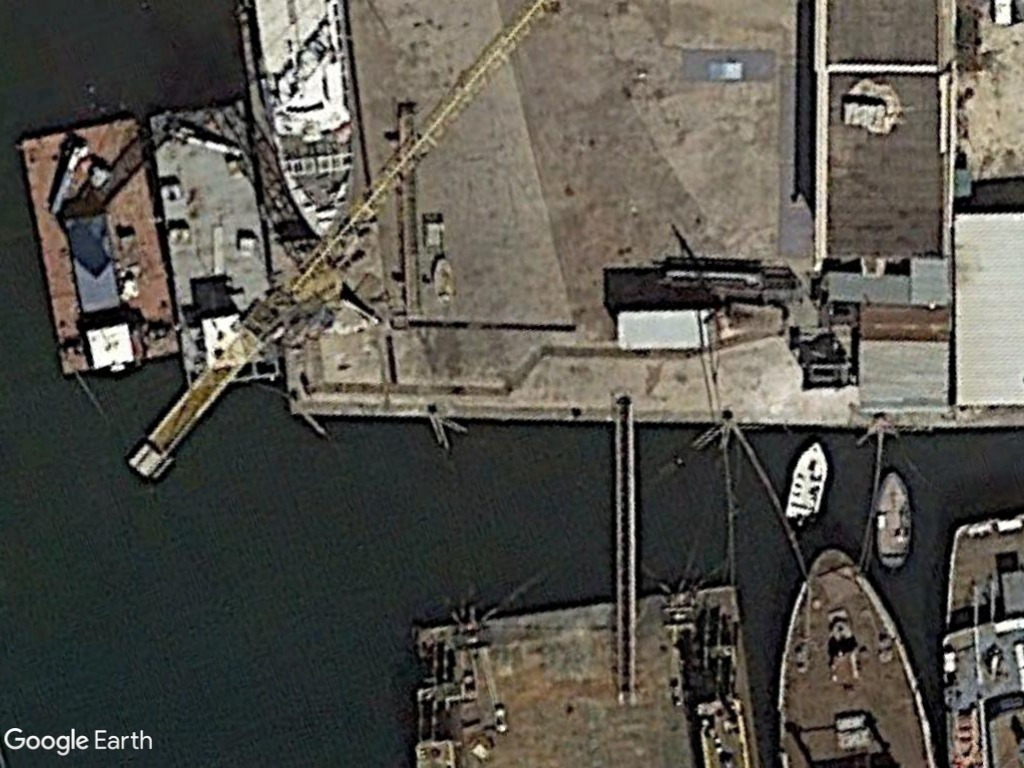boat: (867, 467, 918, 572), (783, 435, 832, 530)
